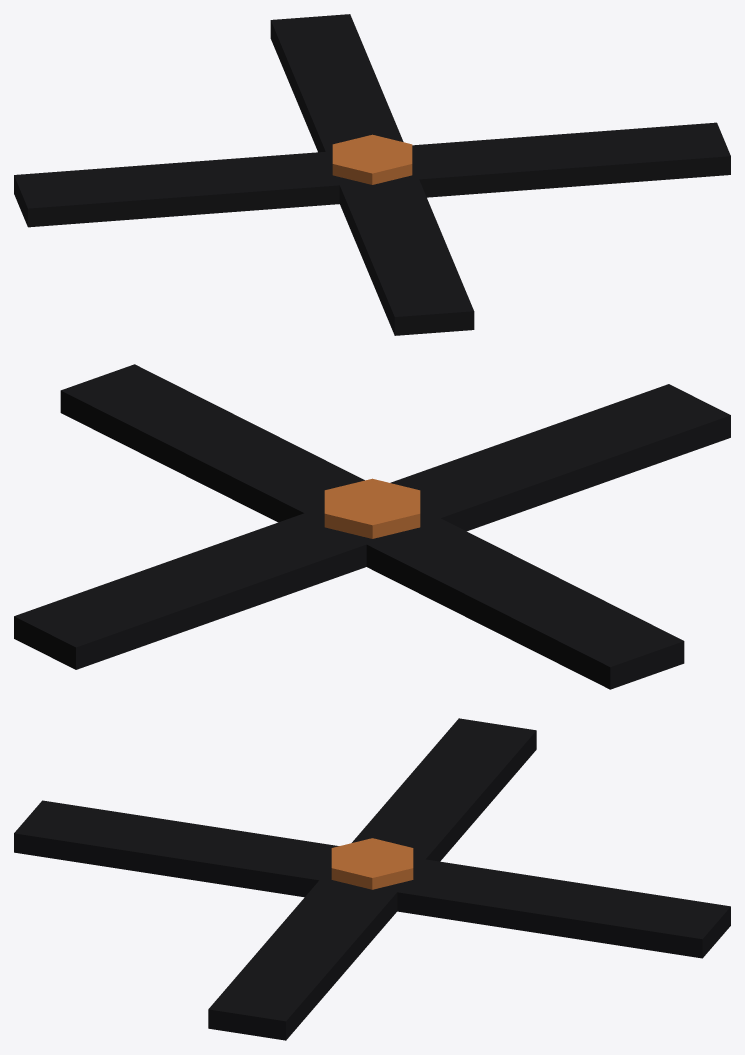
The model's file is drone_prop.obj.
The picture shows the model from 3 angles, top to bottom: view 1: azimuth 30°, elevation 25°; view 2: azimuth 150°, elevation 25°; view 3: azimuth 270°, elevation 25°; orthographic projection. The views are drawn at different scales.
Visible parts, largest first — view 1: Body; view 2: Body; view 3: Body.
Boxes of the visible parts, x1,y1,x2,y2 form: Body: [14, 14, 730, 335]; Body: [14, 364, 730, 689]; Body: [14, 718, 730, 1040].
Size of the model in its own units: 0.6066 by 0.03 by 0.6066.
